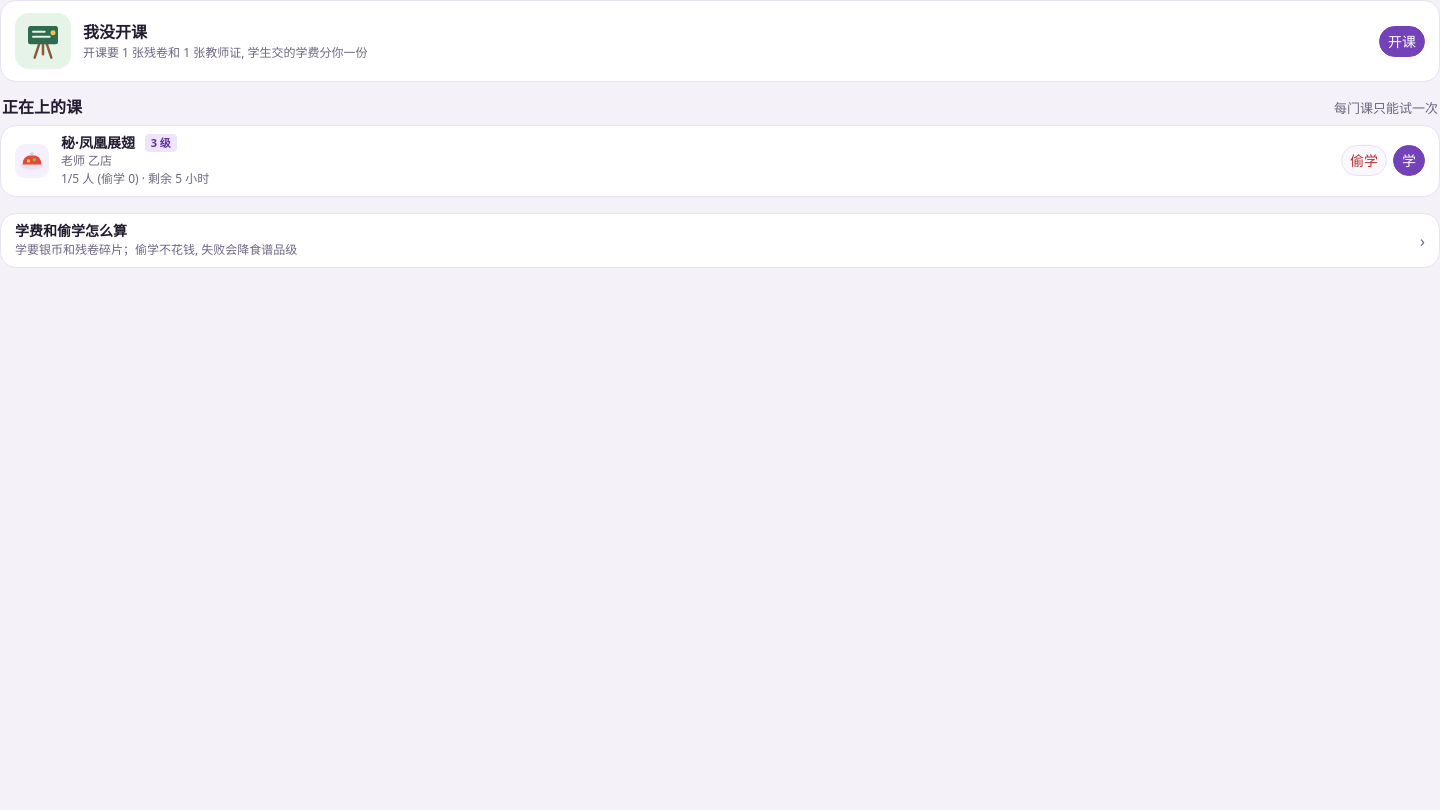
Test: ClassroomPanel › 开课选特色菜：没有残卷的灰掉（界面改版 P10）
What coordinates should you click on to do the following:
click the button with test id "open-lesson-sheet"
I would click on:
 (1402, 41)
Its box is [1379, 26, 1425, 56].
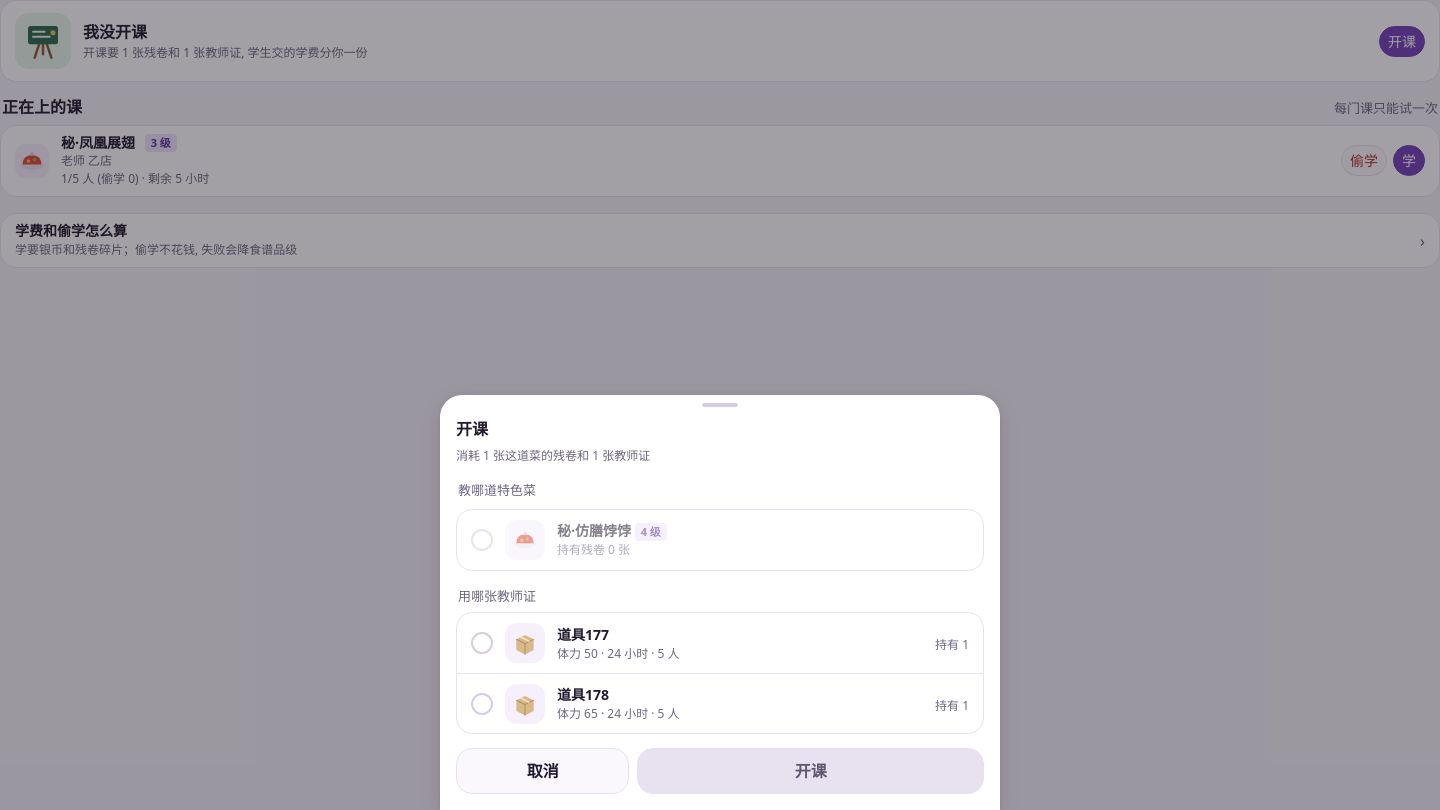
Check: the radio button with test id "open-mc-1" is disabled, box [457, 510, 983, 570]
Check: the radio button with test id "open-mc-1" shows "持有残卷 0 张", box [457, 510, 983, 570]
